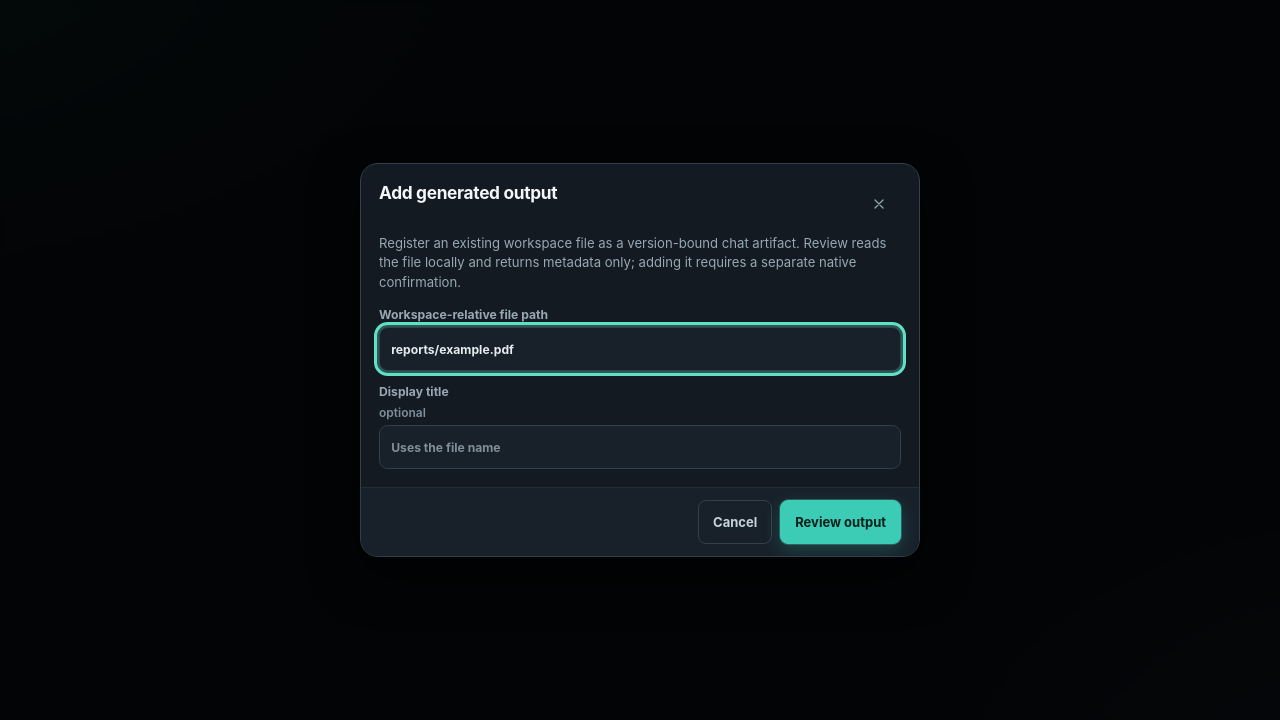
AgentArtifactCaptureDialog › treats a lost capture response as unknown rather than claiming no capture
Click the button "Review output".
click(841, 522)  # box [780,500,901,544]
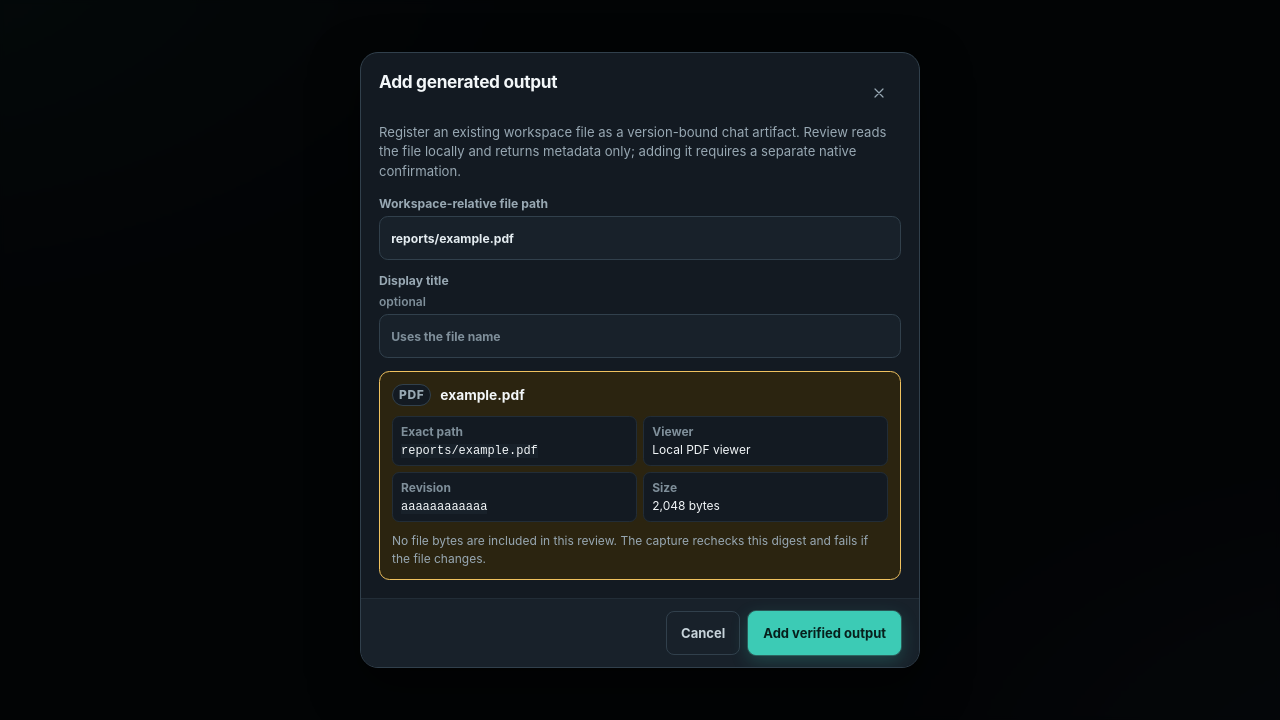
Expected: the button "Add verified output" is shown
Click the button "Add verified output".
click(825, 633)  # box [748,611,901,655]
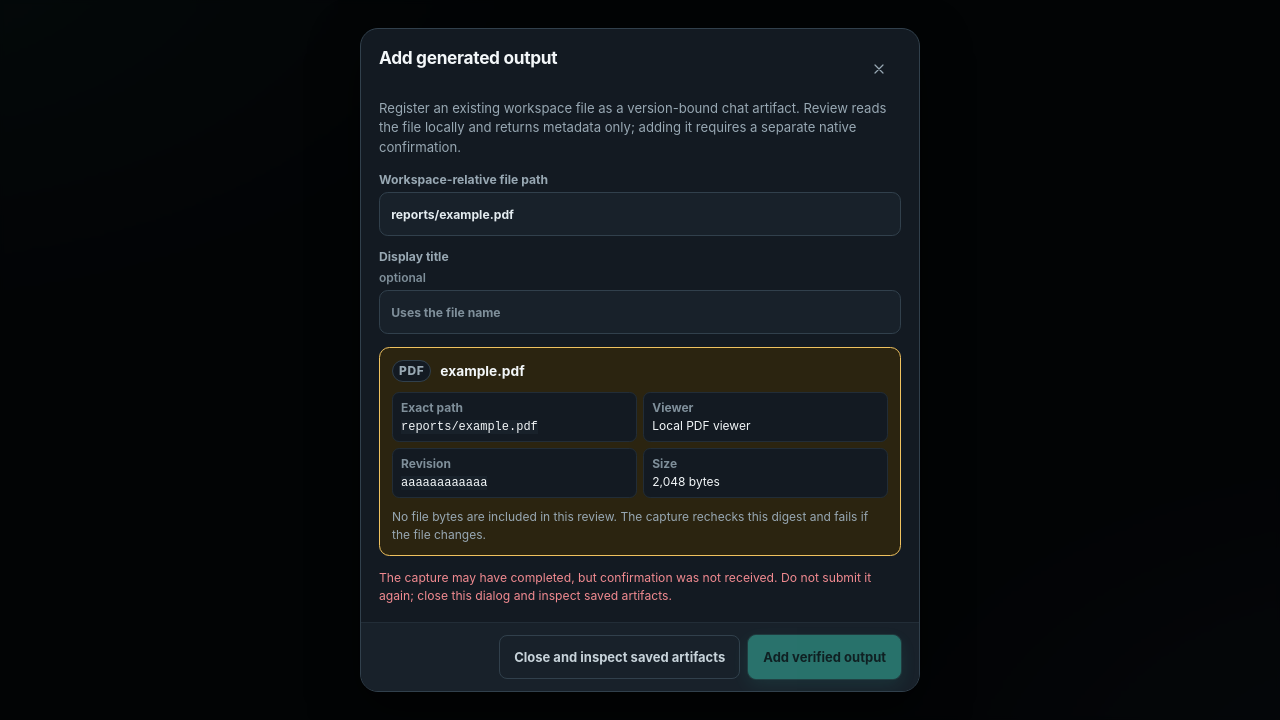
Expected: the text "capture may have completed" is shown, [379,570,871,603]
Expected: the button "Add verified output" is disabled, [748,635,901,679]
